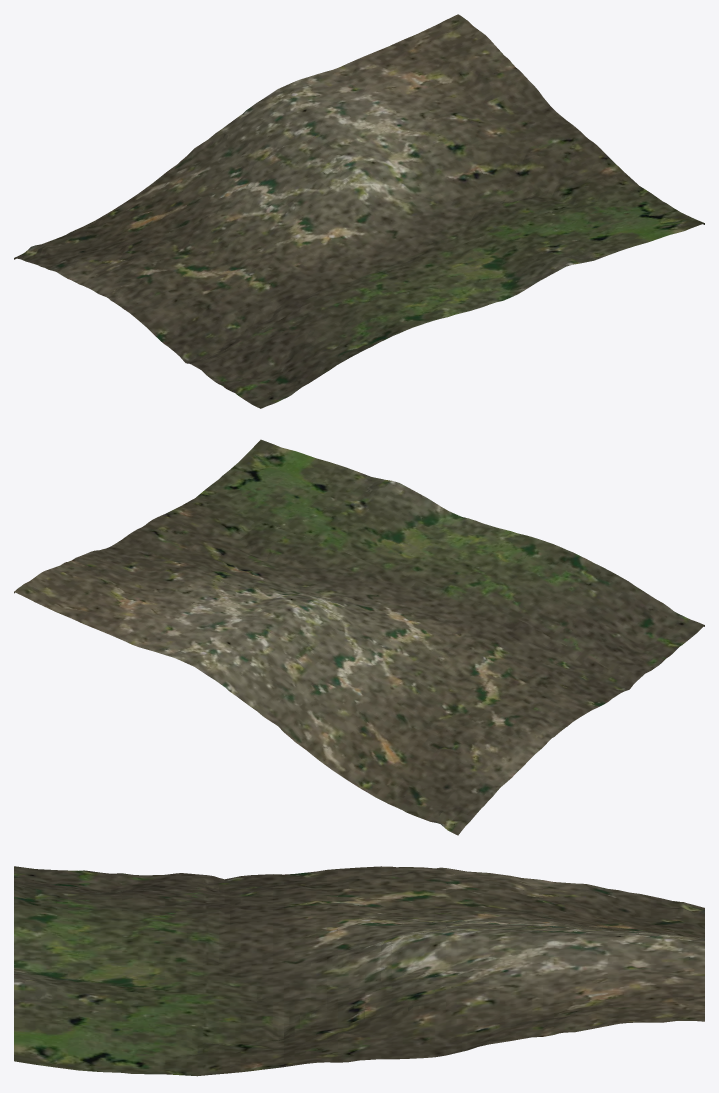
The picture shows the model from 3 angles, top to bottom: view 1: azimuth 30°, elevation 25°; view 2: azimuth 150°, elevation 25°; view 3: azimuth 270°, elevation 25°; orthographic projection. The views are drawn at different scales.
Bounding box in the file's own units: 250 × 74.18 × 241.
Materials: 1 (1 with a texture image).
